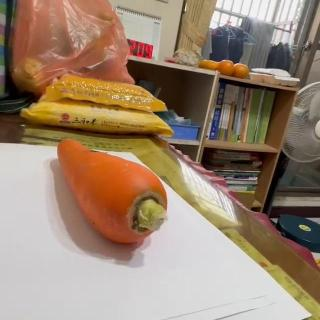carrot: (58, 138, 170, 244)
